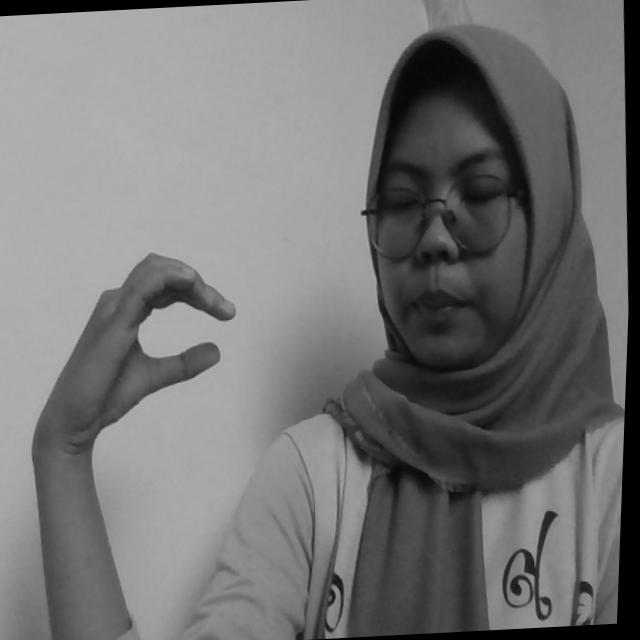C: (26, 247, 247, 443)
